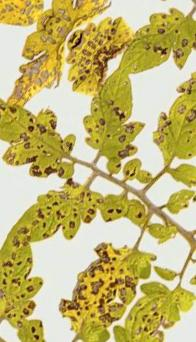Tomato Septoria leaf spot: (48, 54, 179, 184), (0, 65, 102, 206), (0, 0, 95, 139), (11, 160, 117, 270), (114, 91, 196, 205), (77, 222, 167, 310), (37, 32, 117, 107), (127, 263, 196, 342)
